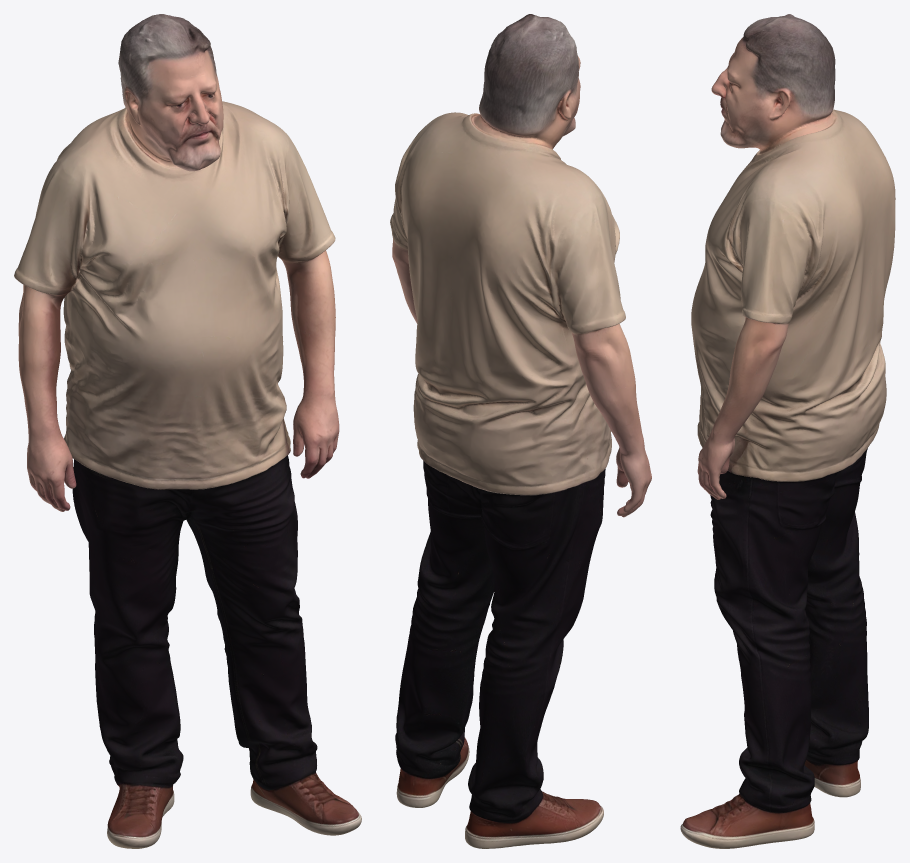
The model's file is barry_tech_male.glb.
3 renders of one model, left to right at view 1: azimuth 30°, elevation 25°; view 2: azimuth 150°, elevation 25°; view 3: azimuth 270°, elevation 25°, orthographic. The views are drawn at different scales.
Visible parts, largest first — view 1: Object_5, Object_6, Object_7; view 2: Object_6, Object_7, Object_5; view 3: Object_6, Object_5, Object_7.
Part boxes in pixels (x1=…): Object_5: x1=60, y1=14, x2=361, y2=848; Object_6: x1=14, y1=14, x2=308, y2=848; Object_7: x1=27, y1=14, x2=297, y2=847; Object_6: x1=392, y1=24, x2=646, y2=848; Object_7: x1=391, y1=14, x2=651, y2=842; Object_5: x1=390, y1=14, x2=619, y2=808; Object_6: x1=748, y1=18, x2=895, y2=797; Object_5: x1=680, y1=14, x2=828, y2=848; Object_7: x1=733, y1=14, x2=820, y2=848.
Bounding box in the file's own units: 0.6856 × 1.9 × 0.4839.
Materials: 1 (1 with a texture image).
